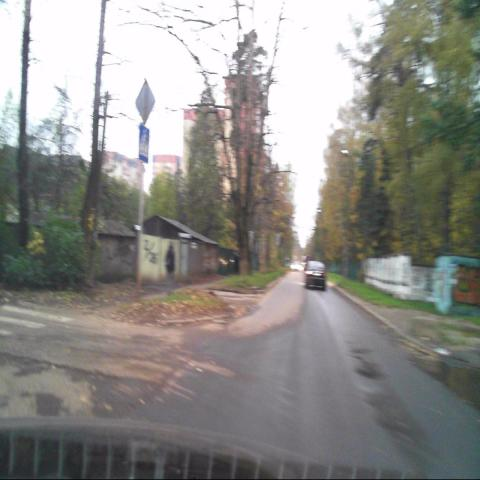5_19_1: (138, 125, 150, 162)
